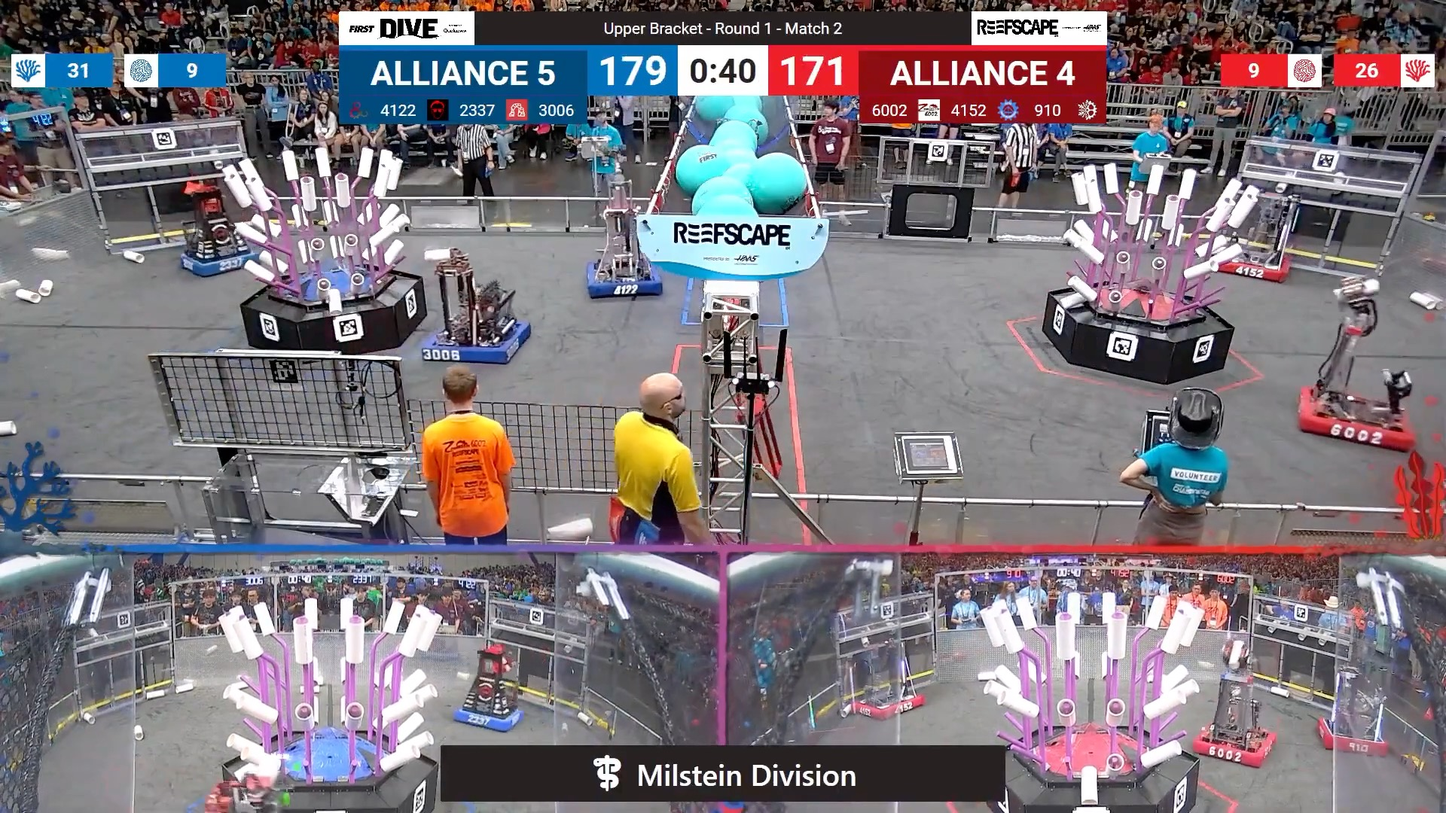bumpers: (1289, 379, 1417, 454), (419, 317, 537, 368), (1185, 720, 1280, 768), (579, 256, 670, 302), (1310, 711, 1391, 761), (168, 242, 268, 282), (1207, 248, 1301, 285), (447, 698, 530, 735), (844, 687, 931, 720)
